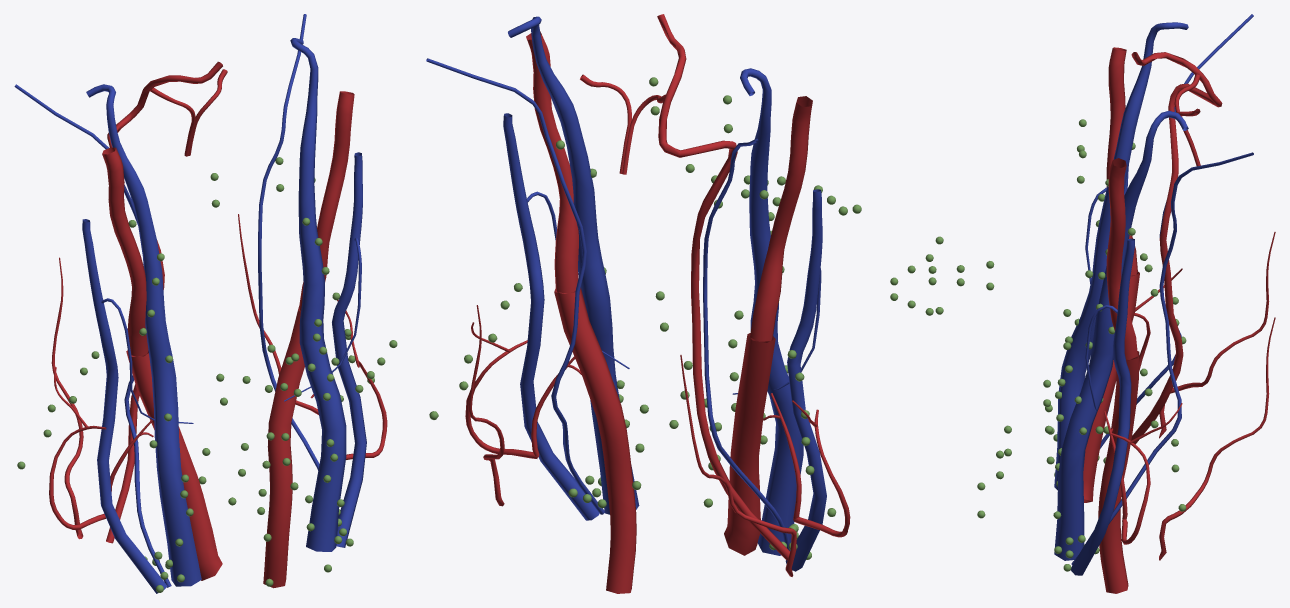
The model's file is vessels-neck.glb.
3 renders of one model, left to right at view 1: azimuth 30°, elevation 25°; view 2: azimuth 150°, elevation 25°; view 3: azimuth 270°, elevation 25°, orthographic. The views are drawn at different scales.
Visible parts, largest first — view 1: vessel-internal-jugular-vein-l, vessel-internal-jugular-vein-r, vessel-left-common-carotid-artery, vessel-external-jugular-vein-l, vessel-external-jugular-vein-r, vessel-external-carotid-artery-r, vessel-right-common-carotid-artery, vessel-external-carotid-artery-l, vessel-vertebral-artery-r, vessel-vertebral-vein-l, vessel-vertebral-vein-r, vessel-deep-cervical-artery-r (+4 smaller); view 2: vessel-left-common-carotid-artery, vessel-internal-jugular-vein-r, vessel-internal-jugular-vein-l, vessel-right-common-carotid-artery, vessel-external-jugular-vein-l, vessel-vertebral-artery-r, vessel-external-jugular-vein-r, vessel-external-carotid-artery-r, vessel-external-carotid-artery-l, vessel-vertebral-vein-l, vessel-vertebral-vein-r, vessel-deep-cervical-artery-r (+5 smaller); view 3: vessel-internal-jugular-vein-l, vessel-internal-jugular-vein-r, vessel-external-jugular-vein-l, vessel-vertebral-artery-r, vessel-left-common-carotid-artery, vessel-external-carotid-artery-l, vessel-vertebral-vein-l, vessel-right-common-carotid-artery, vessel-external-carotid-artery-r, vessel-deep-cervical-artery-l, vessel-deep-cervical-artery-r, vessel-transverse-cervical-artery-l (+1 smaller).
Part boxes in pixels (<box>): vessel-internal-jugular-vein-l: <box>290,38,346,551</box>; vessel-internal-jugular-vein-r: <box>86,84,201,586</box>; vessel-left-common-carotid-artery: <box>263,306,304,588</box>; vessel-external-jugular-vein-l: <box>332,152,366,547</box>; vessel-external-jugular-vein-r: <box>82,219,167,593</box>; vessel-external-carotid-artery-r: <box>102,147,148,356</box>; vessel-right-common-carotid-artery: <box>126,350,222,580</box>; vessel-external-carotid-artery-l: <box>299,91,354,311</box>; vessel-vertebral-artery-r: <box>106,61,222,543</box>; vessel-vertebral-vein-l: <box>258,14,319,470</box>; vessel-vertebral-vein-r: <box>14,84,171,587</box>; vessel-deep-cervical-artery-r: <box>51,257,83,539</box>; vessel-left-common-carotid-artery: <box>554,287,636,593</box>; vessel-internal-jugular-vein-r: <box>740,68,803,555</box>; vessel-internal-jugular-vein-l: <box>508,16,639,514</box>; vessel-right-common-carotid-artery: <box>724,333,775,555</box>; vessel-external-jugular-vein-l: <box>503,113,599,520</box>; vessel-vertebral-artery-r: <box>657,14,790,560</box>; vessel-external-jugular-vein-r: <box>785,189,826,571</box>; vessel-external-carotid-artery-r: <box>750,96,812,341</box>; vessel-external-carotid-artery-l: <box>526,31,578,293</box>; vessel-vertebral-vein-l: <box>426,58,604,514</box>; vessel-vertebral-vein-r: <box>703,138,790,550</box>; vessel-deep-cervical-artery-r: <box>680,355,796,576</box>; vessel-internal-jugular-vein-l: <box>1054,110,1188,560</box>; vessel-internal-jugular-vein-r: <box>1054,22,1188,490</box>; vessel-external-jugular-vein-l: <box>1071,238,1134,575</box>; vessel-vertebral-artery-r: <box>1131,52,1222,444</box>; vessel-left-common-carotid-artery: <box>1098,351,1139,593</box>; vessel-external-carotid-artery-l: <box>1106,158,1137,359</box>; vessel-vertebral-vein-l: <box>1071,152,1253,565</box>; vessel-right-common-carotid-artery: <box>1083,271,1139,502</box>; vessel-external-carotid-artery-r: <box>1106,47,1137,275</box>; vessel-deep-cervical-artery-l: <box>1159,317,1275,560</box>; vessel-deep-cervical-artery-r: <box>1159,232,1275,438</box>; vessel-transverse-cervical-artery-l: <box>1111,403,1182,544</box>.
Bounding box in the file's own units: 0.1306 × 0.1839 × 0.1246.
